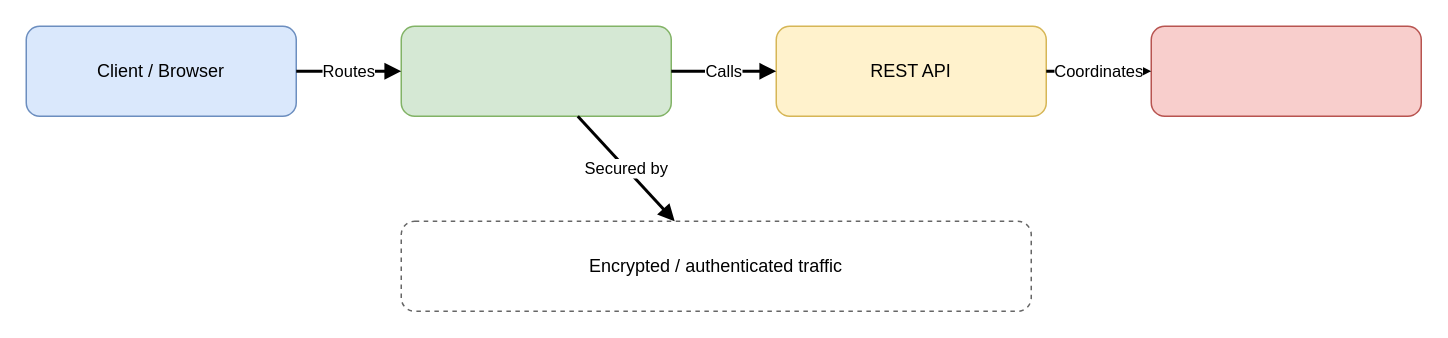
This 1448x338 diagram has some shape labels left out. Each missing label, with the box of its shape:
Dashboard: (400, 25, 671, 116)
Internal Services: (1150, 25, 1421, 116)
